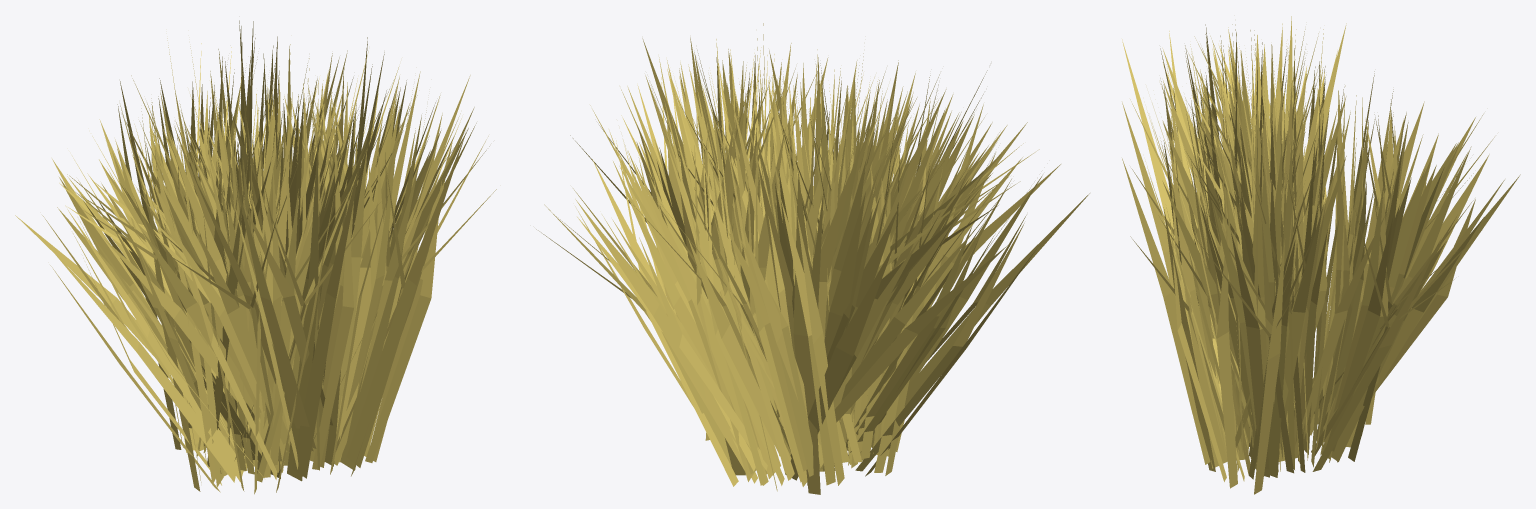
The model's file is espigas_3.glb.
The picture shows the model from 3 angles, left to right: view 1: azimuth 30°, elevation 25°; view 2: azimuth 150°, elevation 25°; view 3: azimuth 270°, elevation 25°; orthographic projection. The views are drawn at different scales.
Visible parts, largest first — view 1: espiga; view 2: espiga; view 3: espiga.
Part boxes in pixels (<box>): espiga: <box>15,20,496,494</box>; espiga: <box>536,23,1089,494</box>; espiga: <box>1122,16,1520,494</box>.
Bounding box in the file's own units: 3.05 × 2.54 × 2.33.
